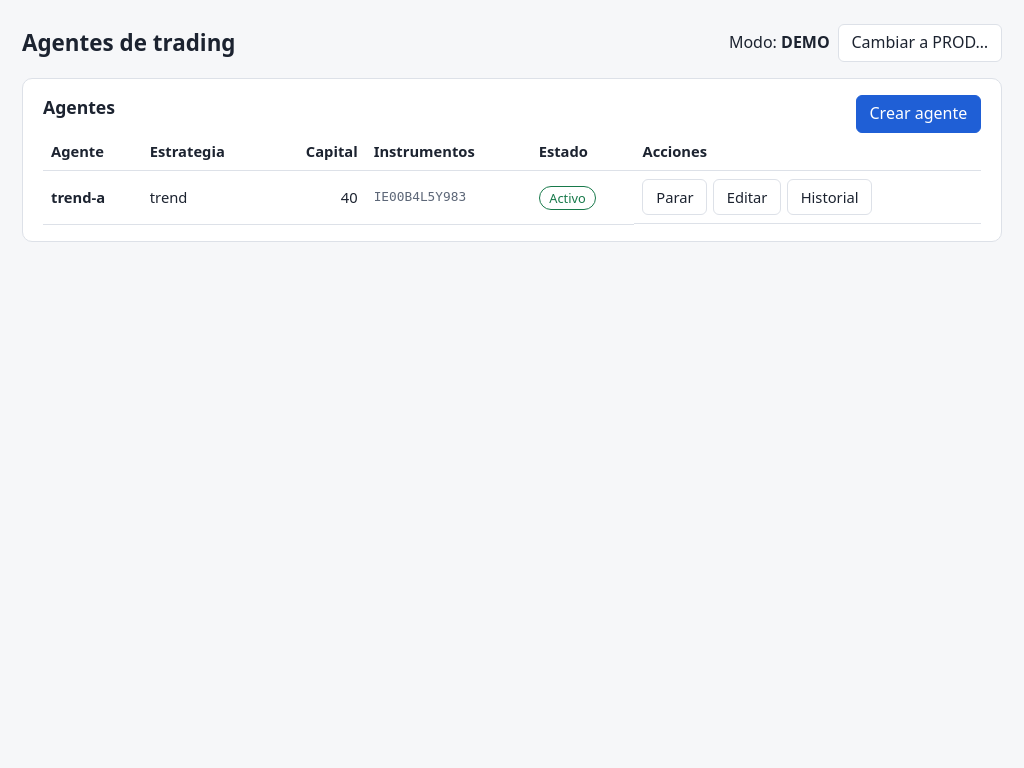
App › opens the PROD dialog only when the flag is on, and a lockout disables it
Later steps or results of the test are not shown.
Click the button "Cambiar a PROD…" at (920, 43), box [838,24,1002,62]
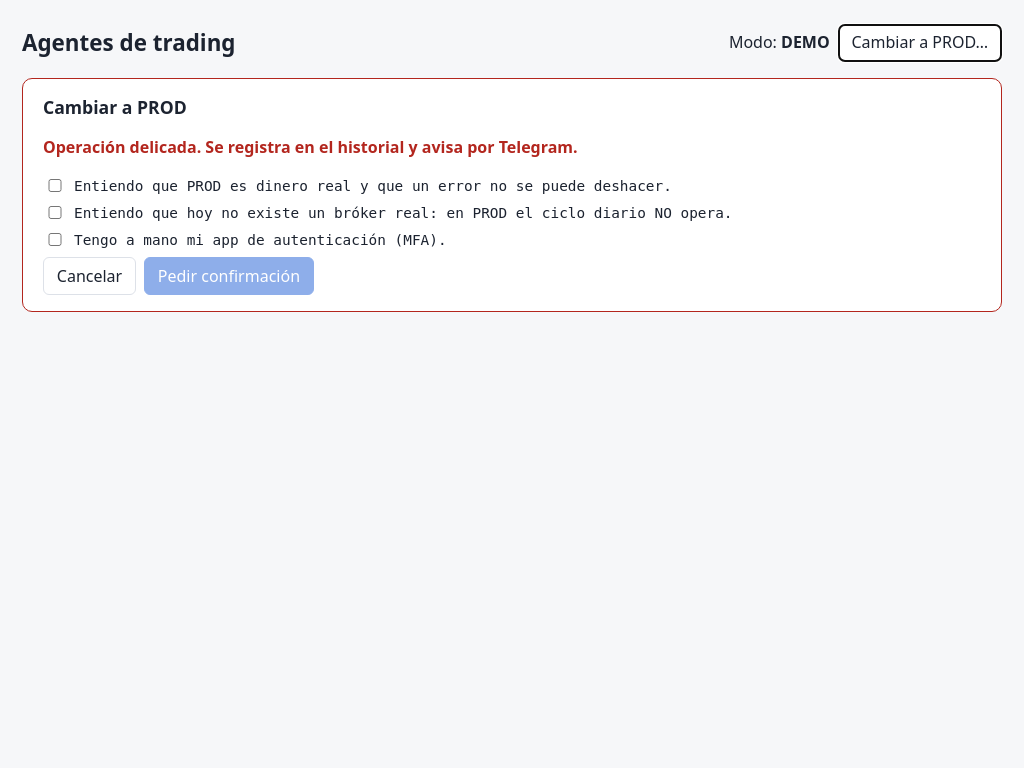
Now the dialog is shown, box [22,78,1002,312]
